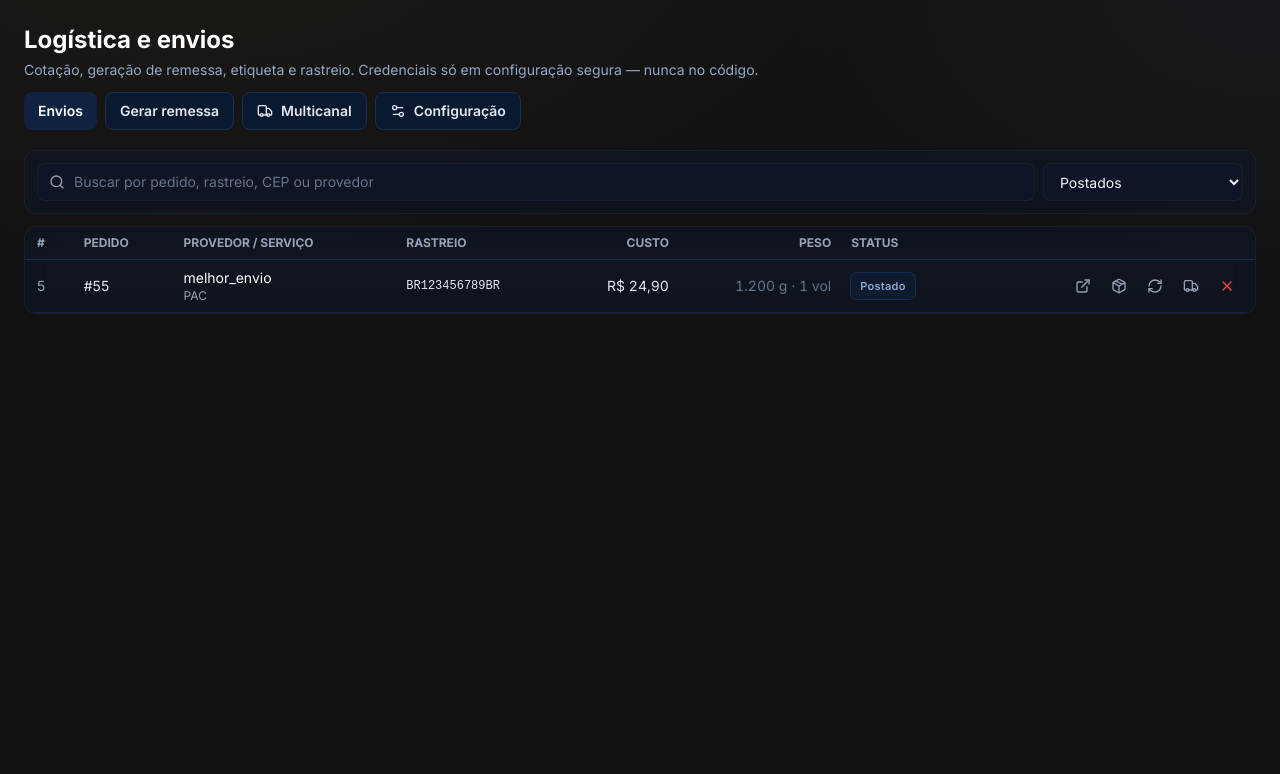
Scenario: Logística — painel multicanal › mostra o aviso de modo seguro quando o módulo está desabilitado
Step 1. Click the button "Multicanal" → (304, 111), box [242,92,367,130]
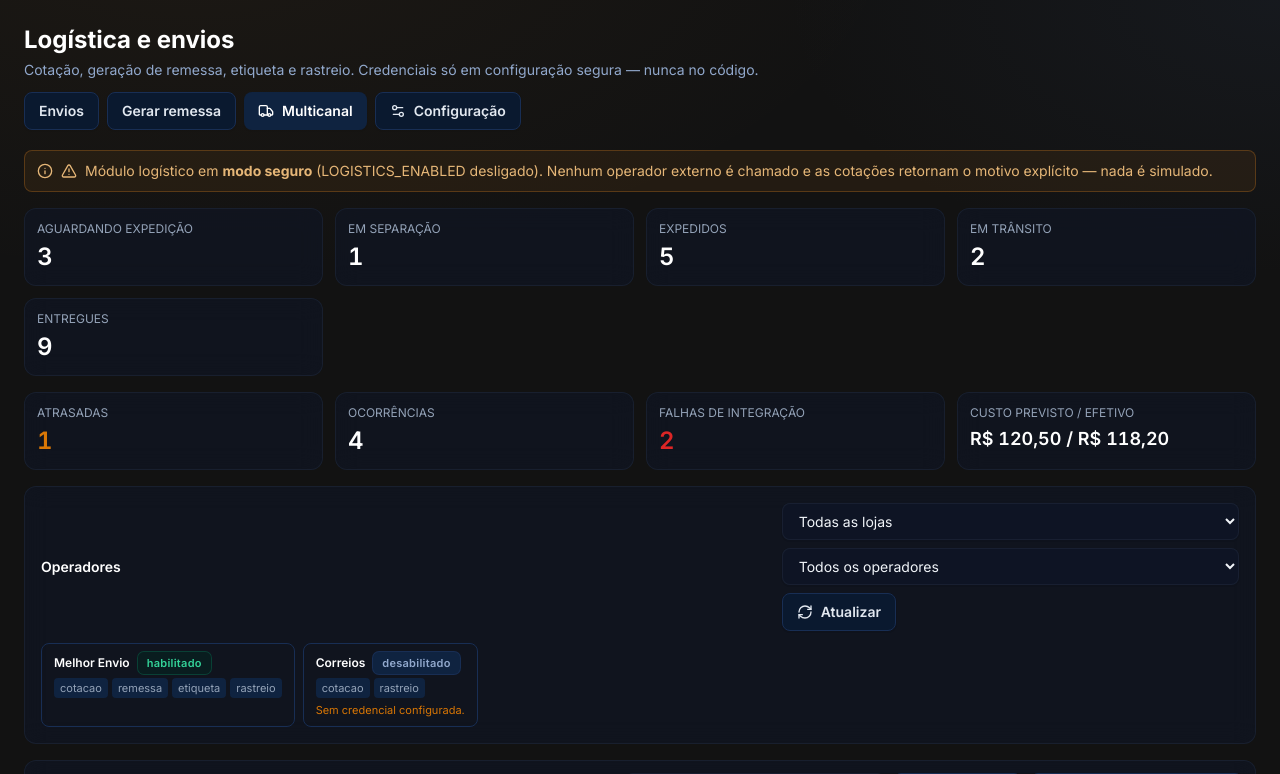
expect the text "modo seguro" is shown: met, box [222,162,312,179]
